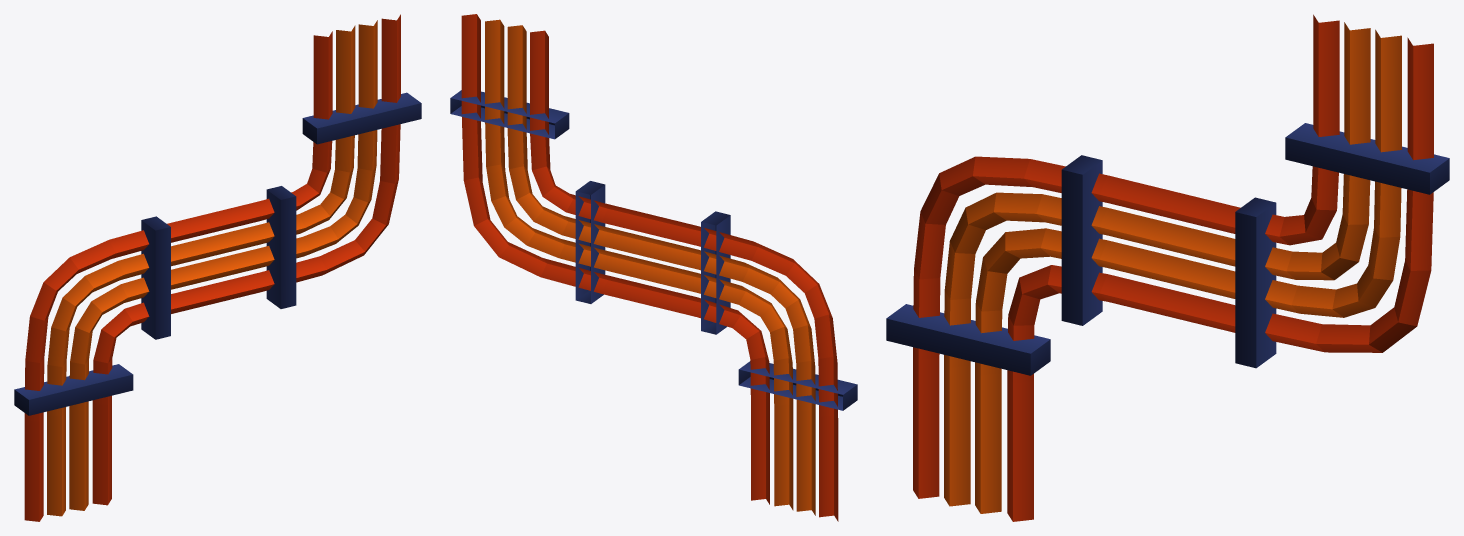
The model's file is FiosOrganizadosOtimizados.fbx.
3 renders of one model, left to right at view 1: azimuth 30°, elevation 25°; view 2: azimuth 150°, elevation 25°; view 3: azimuth 330°, elevation 25°, orthographic. The views are drawn at different scales.
Visible parts, largest first — view 1: FiosOrganizadosOtimizados; view 2: FiosOrganizadosOtimizados; view 3: FiosOrganizadosOtimizados.
Part boxes in pixels (x1,y1,x2,y2): FiosOrganizadosOtimizados: (14,14,421,521); FiosOrganizadosOtimizados: (450,14,857,521); FiosOrganizadosOtimizados: (886,14,1449,521).
Bounding box in the file's own units: 102 × 102 × 6.44.
